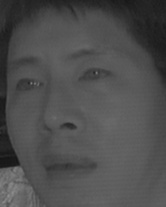eye: (75, 65, 114, 87), (12, 75, 47, 95)
mouth: (38, 147, 100, 186)
